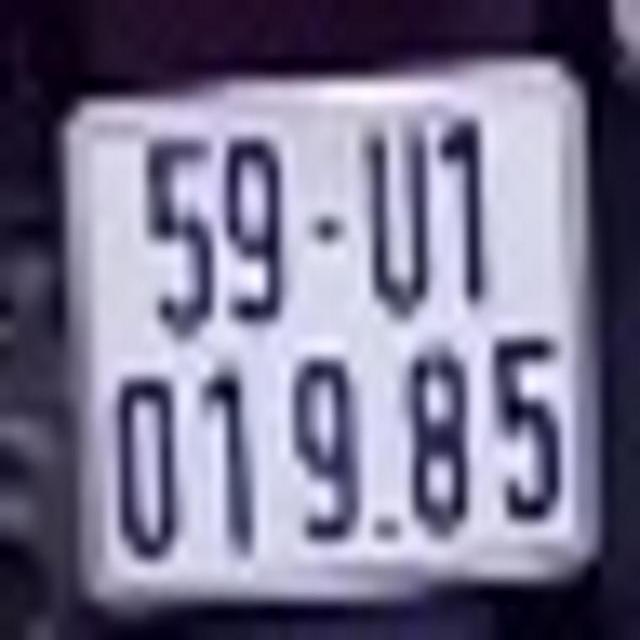0: (114, 371, 180, 568)
1: (199, 366, 264, 558), (446, 120, 493, 305)
5: (146, 131, 216, 343), (491, 328, 564, 531)
8: (407, 343, 476, 546)
9: (283, 351, 361, 547), (221, 136, 287, 330)
U: (359, 126, 440, 326)
